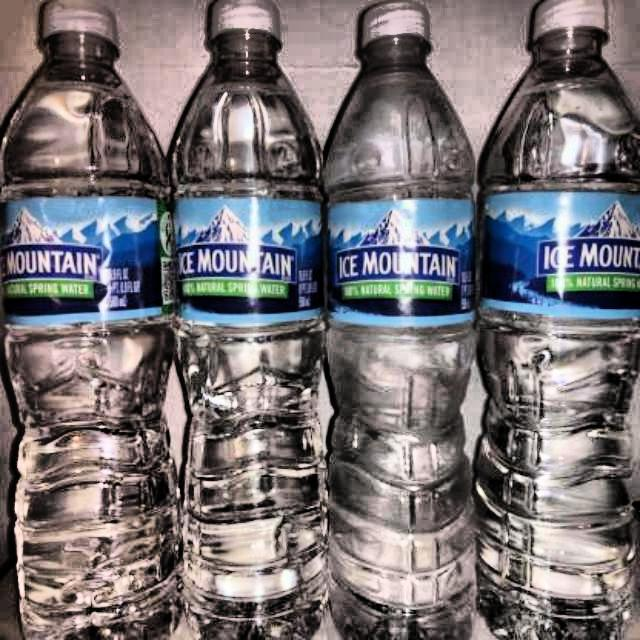Bottles: (0, 0, 196, 634), (316, 0, 487, 637)
